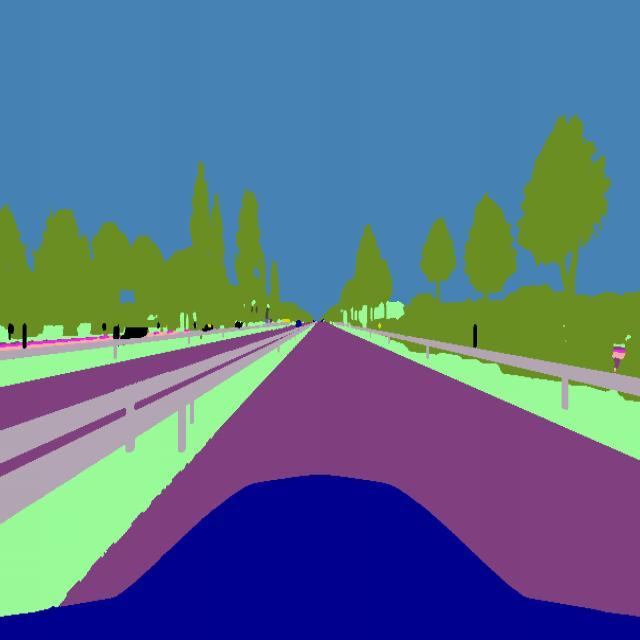safe: (292, 318, 305, 330)
